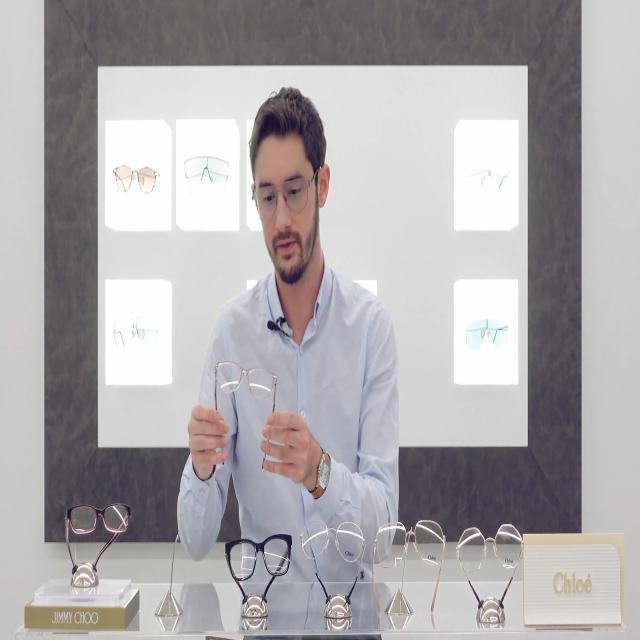dress: (179, 255, 401, 582)
glasses: (214, 355, 275, 409), (254, 172, 311, 219)
